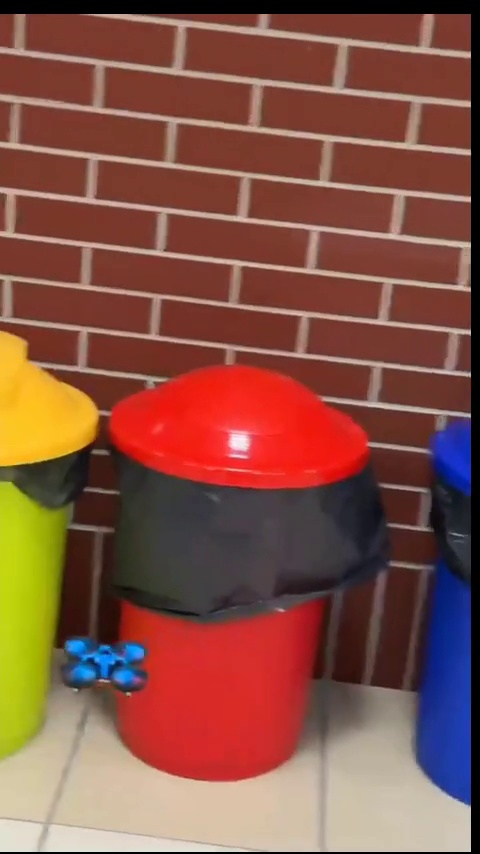drone: (59, 634, 156, 692)
